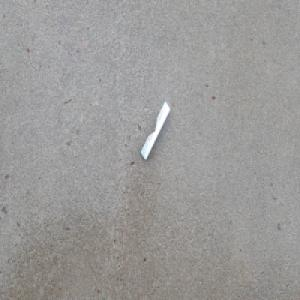ClampPart: (140, 100, 171, 162)
